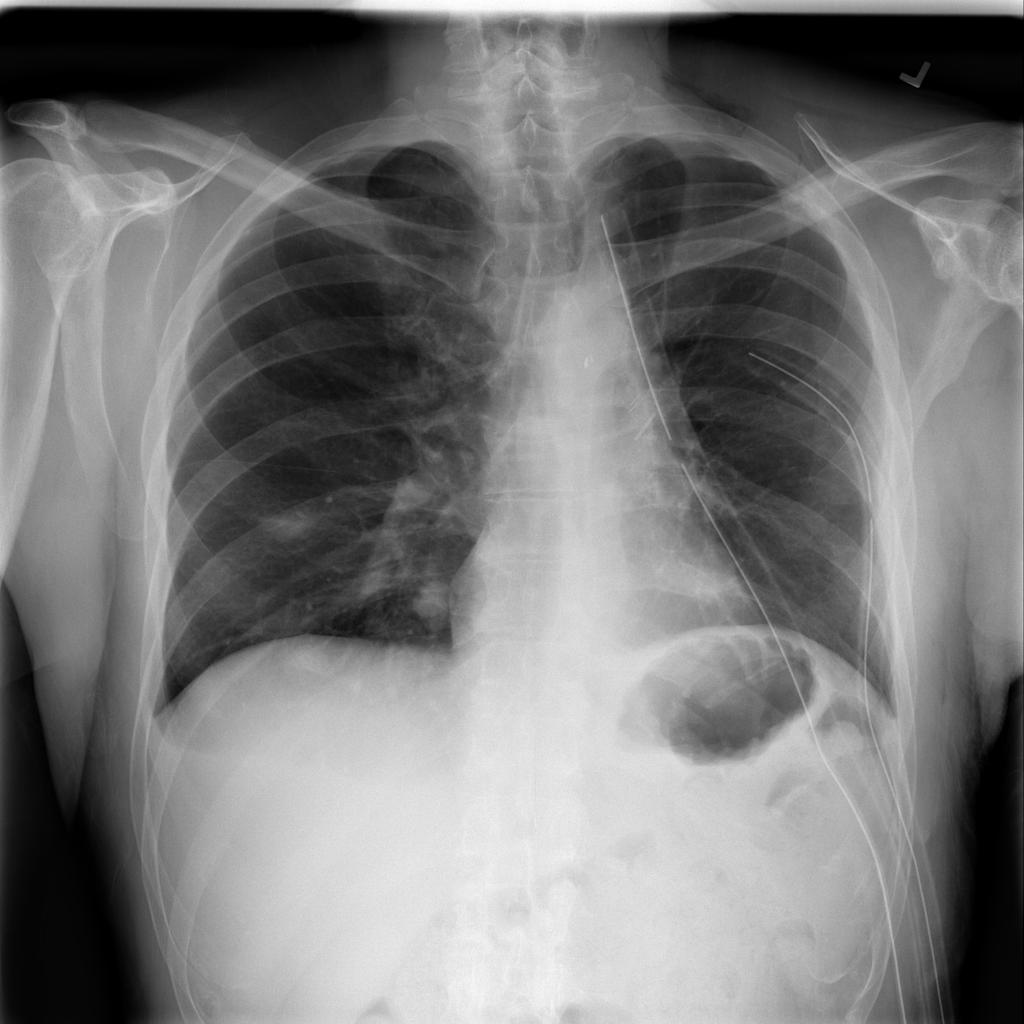nodule: (270, 633, 355, 697), (394, 565, 469, 633)
